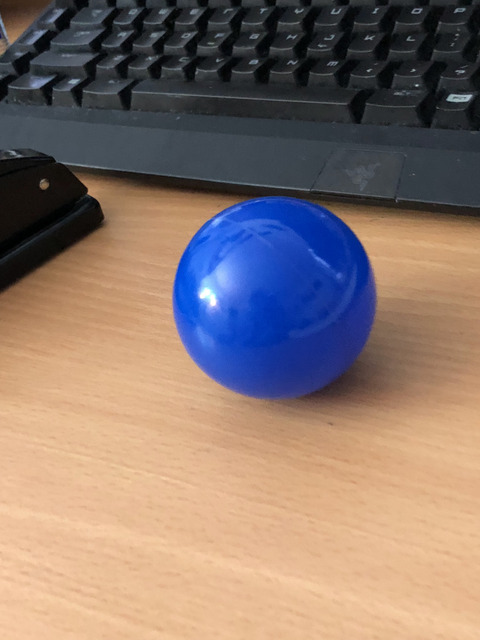Ball: (175, 198, 378, 401)
